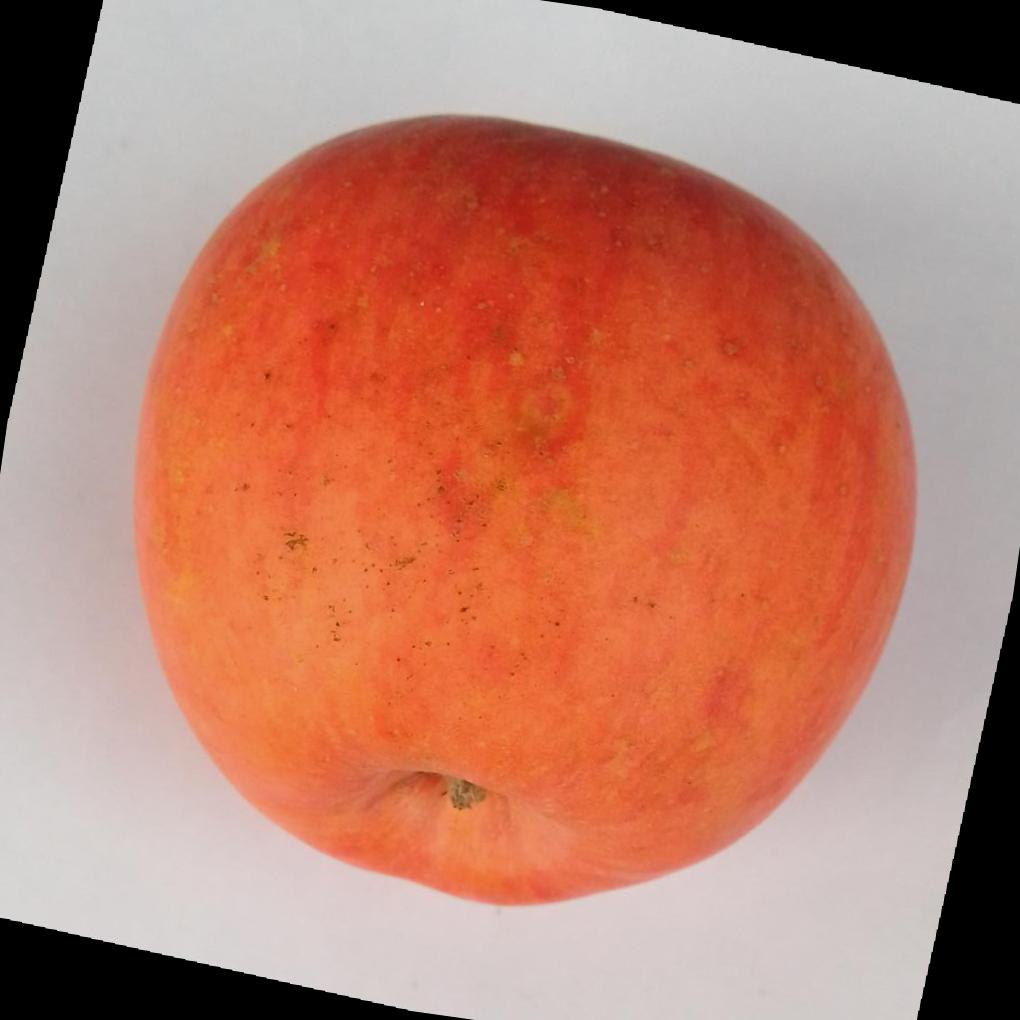FreshGuava: (133, 113, 921, 909)
